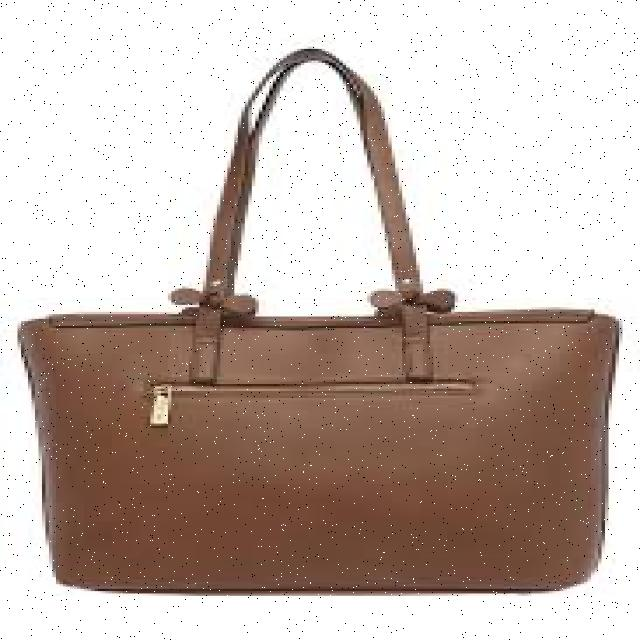handbag: (14, 46, 619, 594)
